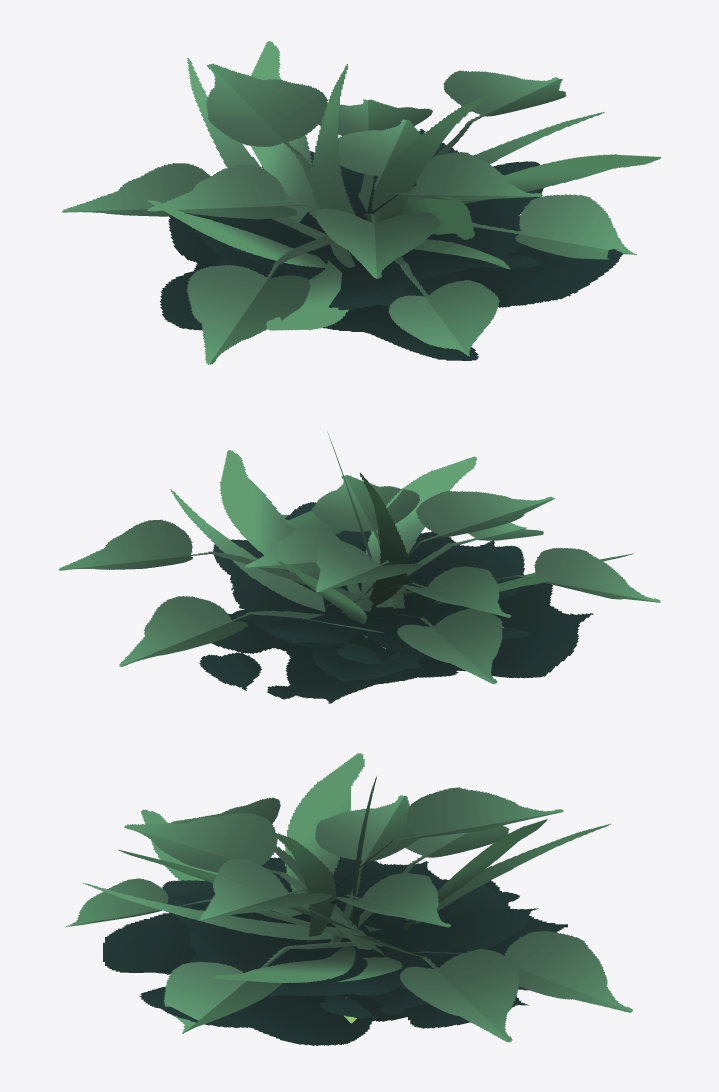
The model's file is plant_01.glb.
3 views of the same model, one above another, from view 1: azimuth 30°, elevation 25°; view 2: azimuth 150°, elevation 25°; view 3: azimuth 270°, elevation 25° (orthographic). The views are drawn at different scales.
Visible parts, largest first — view 1: plant_01; view 2: plant_01; view 3: plant_01.
Boxes of the visible parts, box(x1,y1,x2,y2) form: plant_01: box(62, 41, 660, 364); plant_01: box(58, 432, 660, 703); plant_01: box(65, 753, 632, 1045).
Bounding box in the file's own units: 1.24 × 0.393 × 1.14.
1 material, 1 textured.
